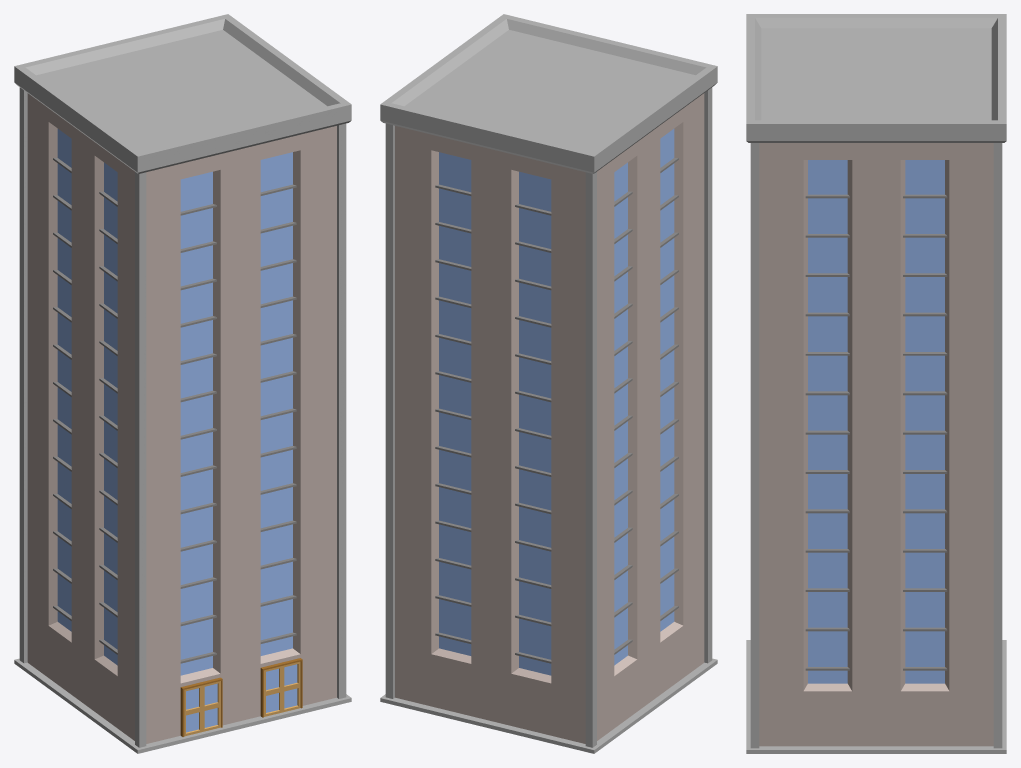
Rendered from Office_8_story.fbx.
The picture shows the model from 3 angles, left to right: view 1: azimuth 30°, elevation 25°; view 2: azimuth 150°, elevation 25°; view 3: azimuth 270°, elevation 25°; orthographic projection. The views are drawn at different scales.
Parts seen in each view (by area): view 1: mesh_office_8_story; view 2: mesh_office_8_story; view 3: mesh_office_8_story.
Part boxes in pixels (x1,y1,x2,y2): mesh_office_8_story: (14,14,351,753); mesh_office_8_story: (380,14,717,753); mesh_office_8_story: (746,14,1006,753).
Bounding box in the file's own units: 6 × 16 × 6.
